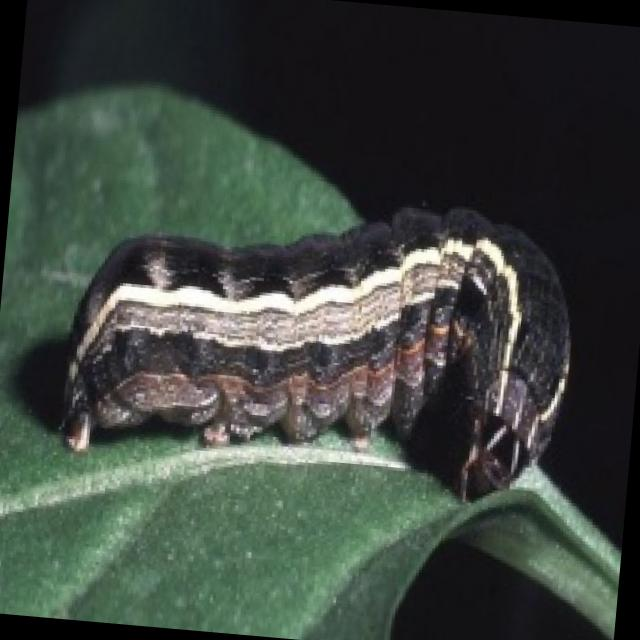armyworm: (35, 164, 603, 525)
